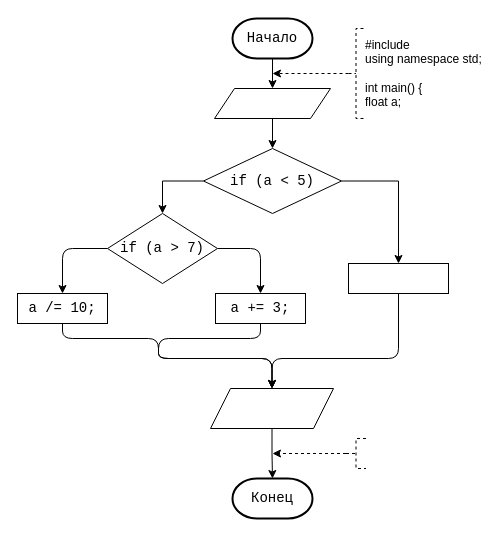
Image size: 500x536. Some labels were removed from this diagram. Here are the shapes that lost their labels. From the top down, the centre of each, then its label:
At [272,103]: "cin >> a;".
At [398,278]: "a *= 3;".
At [272,408]: "cout << a".
At [355,453]: "return 0;".
